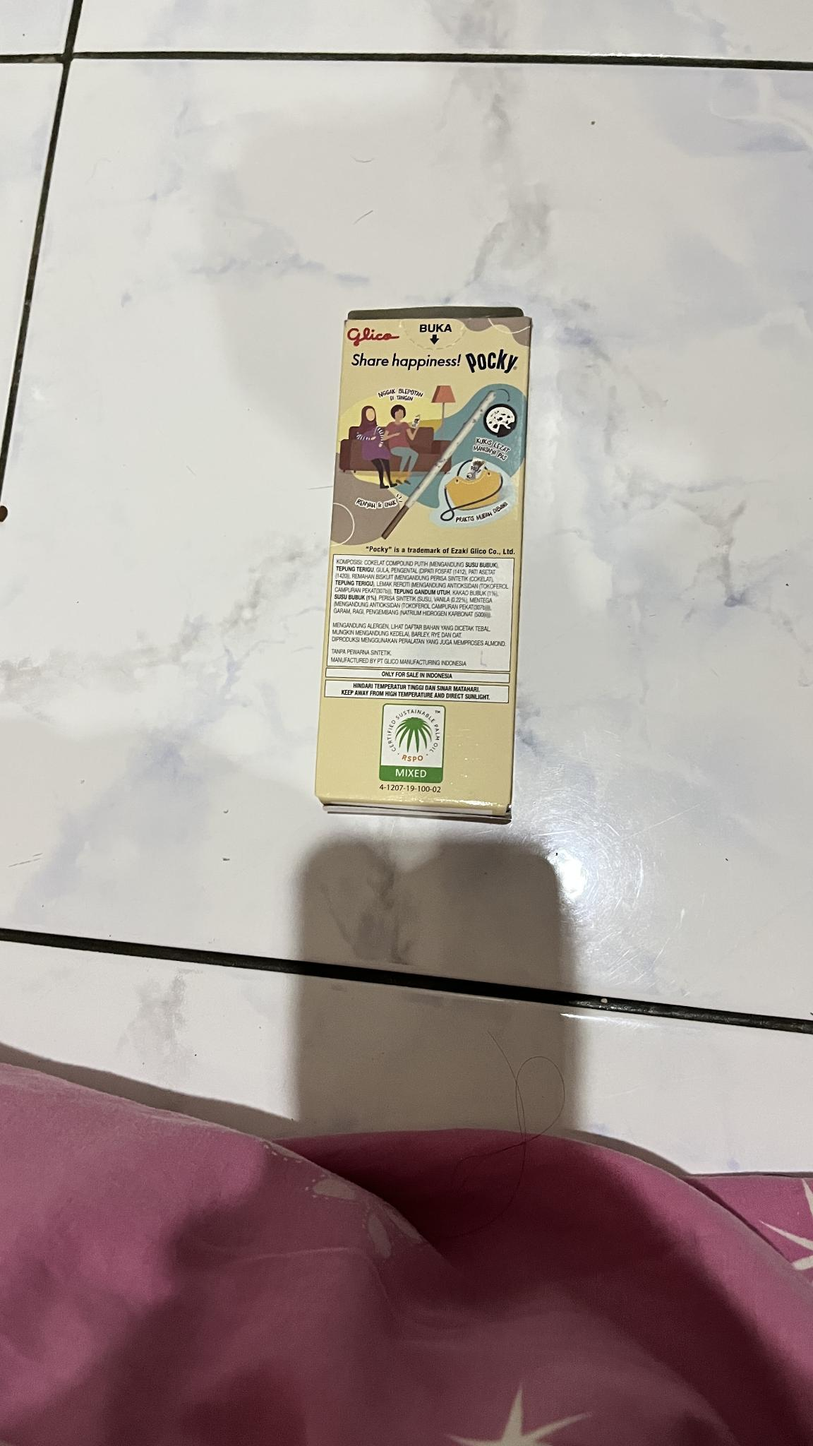Kertas: (319, 305, 523, 821)
